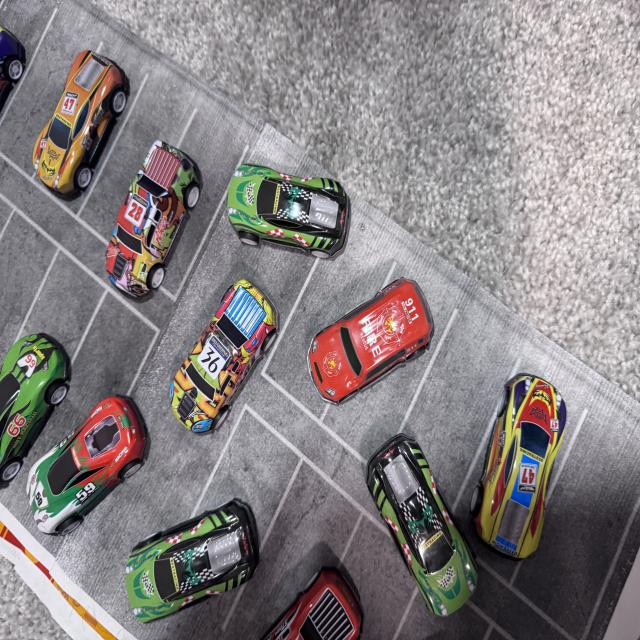car: (341, 430, 505, 631), (167, 215, 305, 443), (9, 373, 154, 561), (471, 348, 582, 530), (100, 144, 206, 332), (116, 481, 238, 640), (328, 278, 456, 397), (225, 148, 351, 249), (42, 57, 124, 209), (0, 288, 66, 467), (283, 509, 363, 640)
